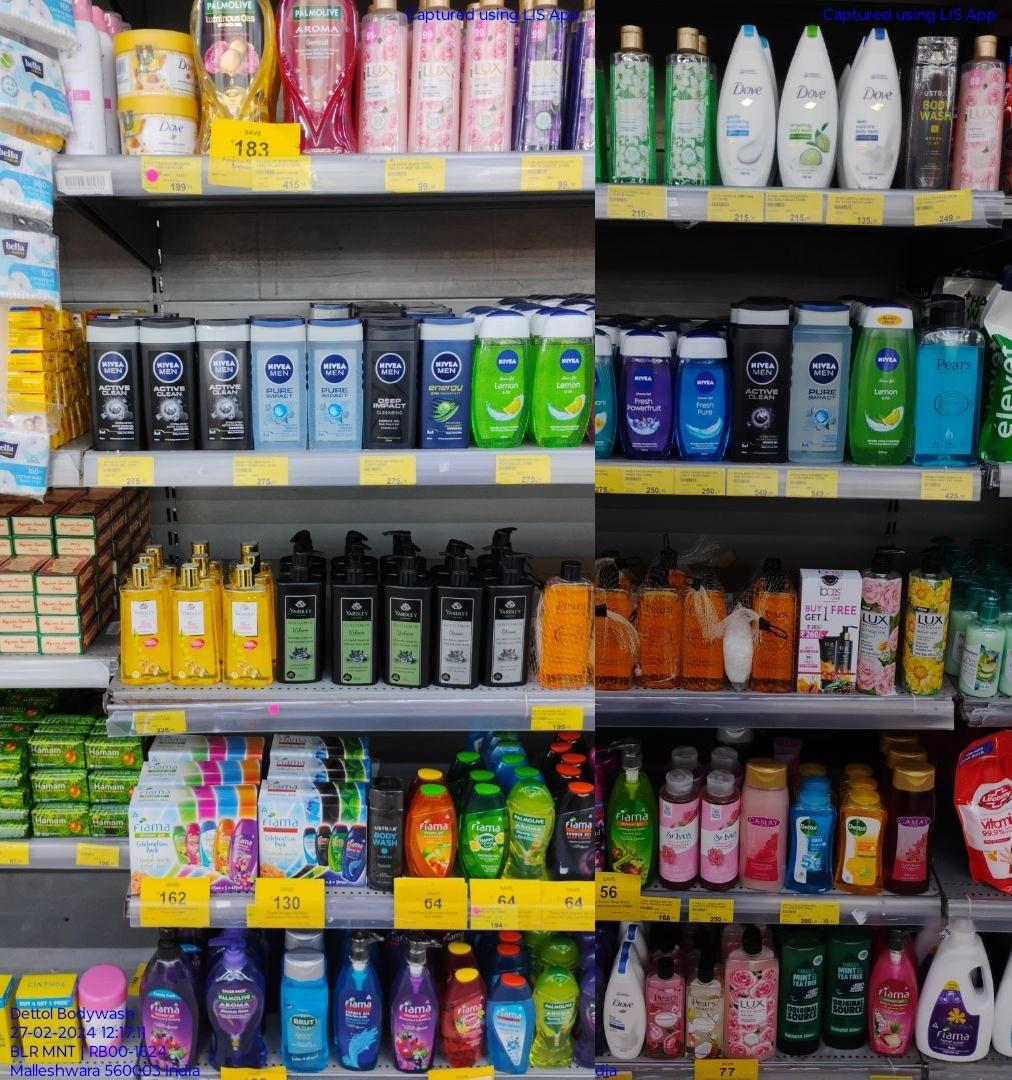Dettol_Bodywash_Cool: (787, 792, 835, 894)
Dettol_Bodywash_Refresh: (841, 793, 881, 896)
Dove_Deep_Moisture_Body_Wash_250ML: (843, 25, 904, 189), (606, 968, 645, 1058)
Dove_Gentle_Exfoliating_Body_Wash_250ML: (721, 26, 776, 189)
Dove_Refreshing_Body_Wash_250ML: (784, 24, 839, 191)
Fiama_Shower_Gel_Peach_and_Avocado_250ML: (408, 786, 454, 878)
Lux_Body_Wash_Skin_Detox_Freesia_Scent_and_Alove_Vera_245ML: (609, 23, 660, 185), (666, 25, 715, 187)
Nivea_Shower_Gel_Fresh_Powerfruit_250ML: (617, 328, 672, 462)
Nivea_Shower_Gel_Lemon_and_Oil_250ML: (856, 306, 915, 466), (476, 312, 532, 450), (537, 310, 590, 451)
Palmolive_Aroma_Morning_Tonic_Shower_Gel_250ML: (508, 782, 553, 882), (534, 976, 578, 1068)
